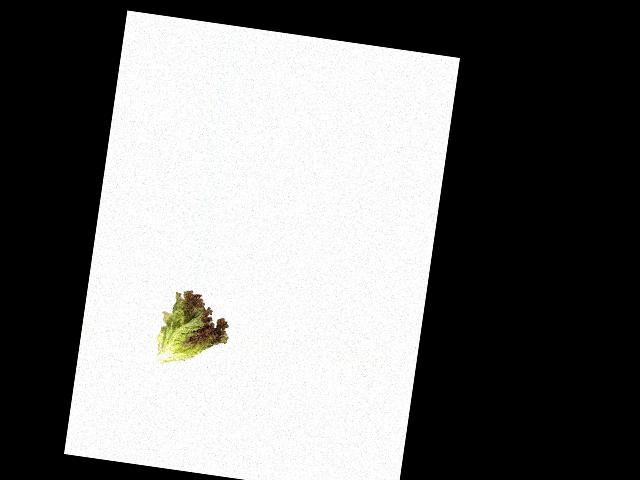lettuce: (154, 286, 233, 371)
